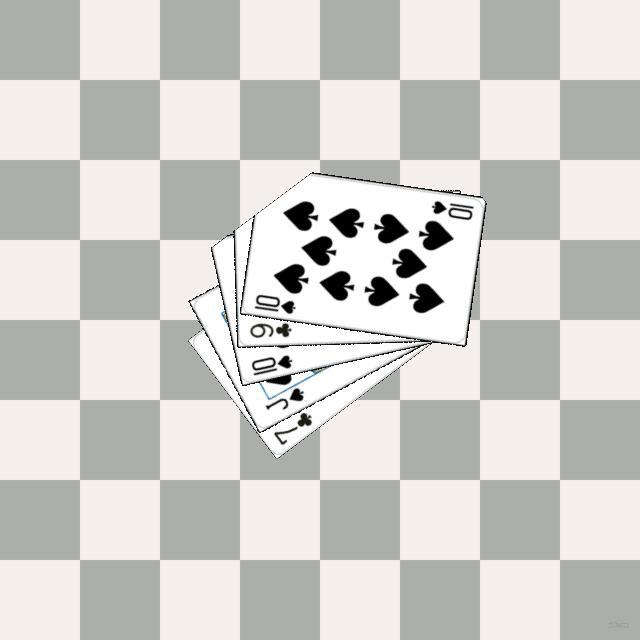10s: (246, 350, 294, 377), (249, 289, 297, 316), (427, 196, 475, 222)
7c: (268, 407, 314, 447)
9c: (245, 318, 293, 340)
Js: (260, 382, 305, 412)
